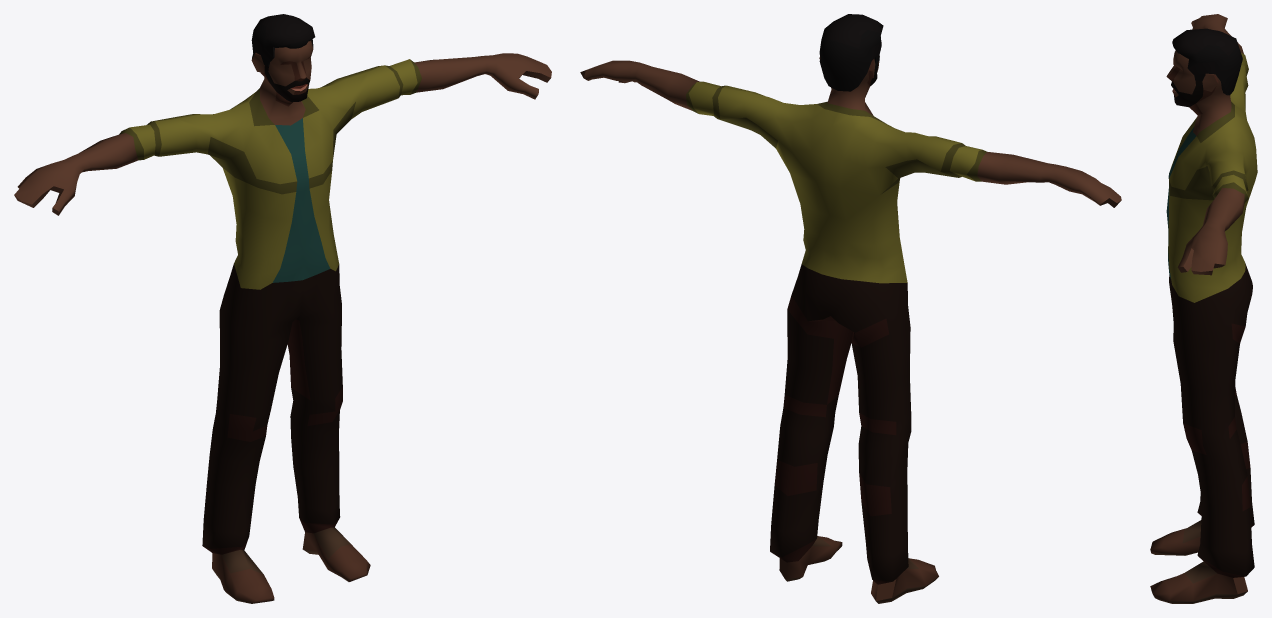
File: Male_Model_01.FBX
3 views of the same model, side by side, from view 1: azimuth 30°, elevation 25°; view 2: azimuth 150°, elevation 25°; view 3: azimuth 270°, elevation 25° (orthographic). The views are drawn at different scales.
Visible parts, largest first — view 1: lpMaleG004; view 2: lpMaleG004; view 3: lpMaleG004.
Boxes of the visible parts, x1,y1,x2,y2 form: lpMaleG004: (14,14,551,603); lpMaleG004: (580,14,1121,603); lpMaleG004: (1150,14,1257,603).
Bounding box in the file's own units: 71.96 × 71.67 × 12.85.
